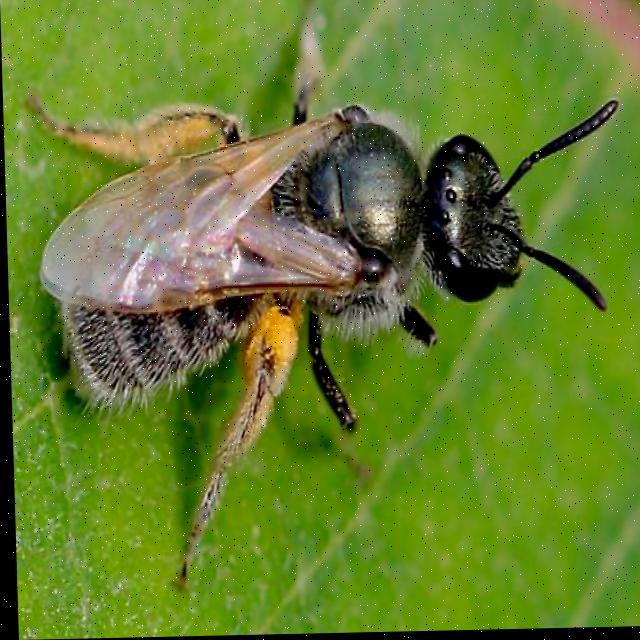Lasioglossum: (9, 26, 640, 570)
